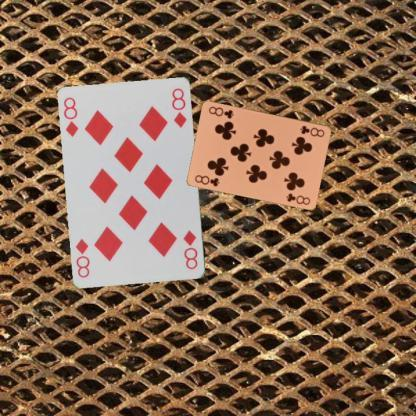8c: (192, 172, 222, 188), (297, 122, 326, 138)
8d: (180, 228, 199, 271), (62, 94, 80, 138)
